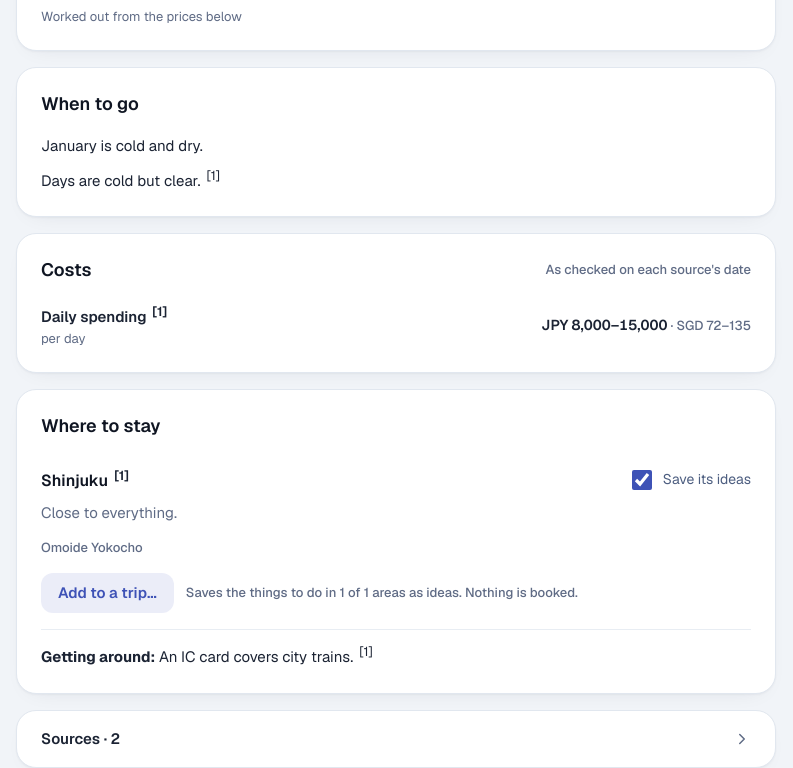
Test: the research page › keeps the tick boxes for saving an area's ideas
(page scrolled)
What coordinates should you click on to do the following:
click the checkbox named "Save its ideas from Shinjuku"
I would click on:
 (642, 480)
Its box is 632,470 -> 652,490.
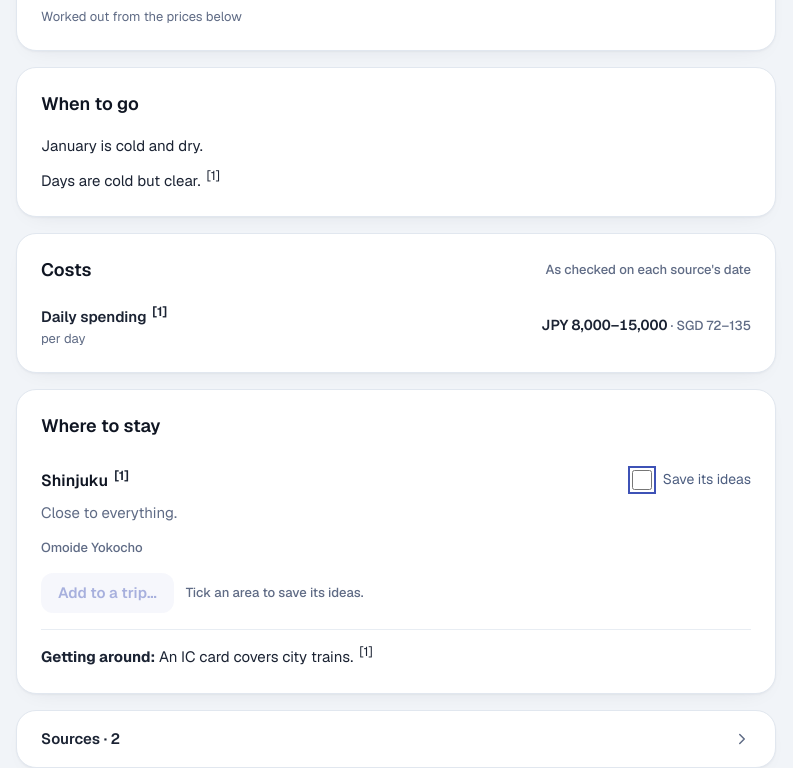
Check: the checkbox named "Save its ideas from Shinjuku" is not checked, box 632,470 -> 652,490
Check: the button "Add to a trip…" is disabled, box 41,573 -> 174,613
